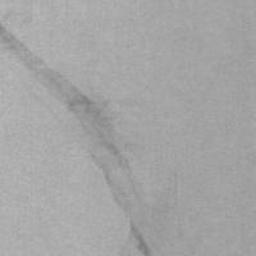Water spot: (0, 20, 179, 256)
